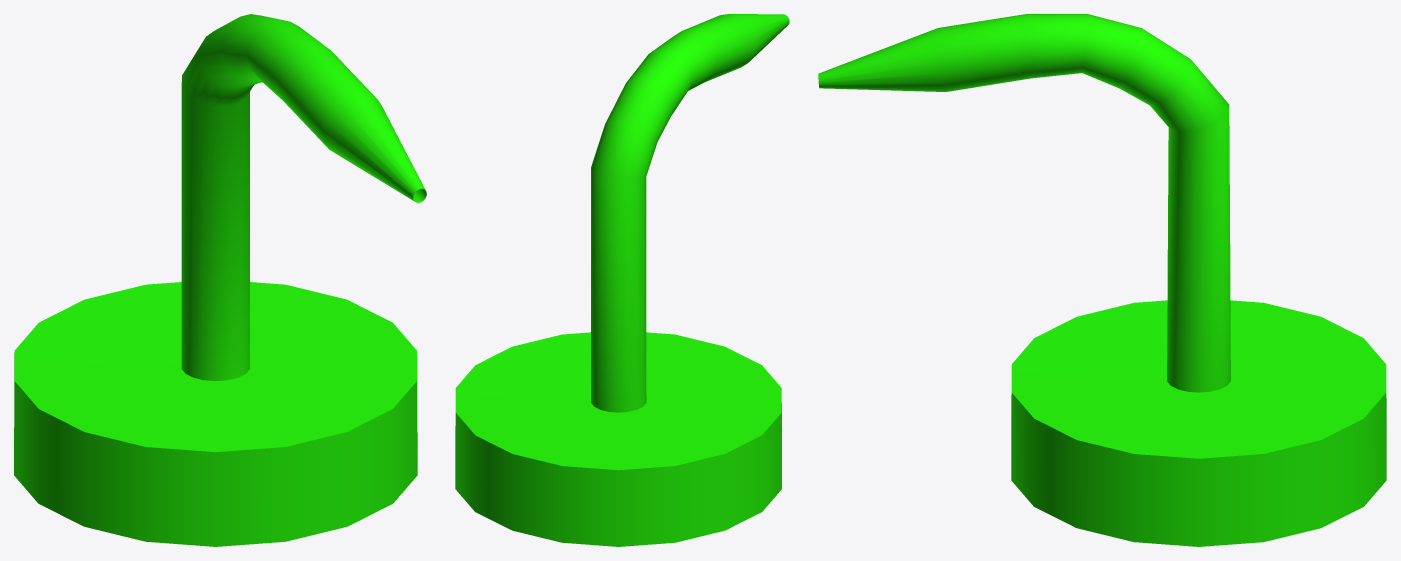
File: pH Buffer Bottle Cap 1.FBX
3 renders of one model, left to right at view 1: azimuth 30°, elevation 25°; view 2: azimuth 150°, elevation 25°; view 3: azimuth 270°, elevation 25°, orthographic. The views are drawn at different scales.
Visible parts, largest first — view 1: pH_Buffer_bottle_Cap; view 2: pH_Buffer_bottle_Cap; view 3: pH_Buffer_bottle_Cap.
Boxes of the visible parts, x1=… form: pH_Buffer_bottle_Cap: x1=14, y1=14, x2=426, y2=546; pH_Buffer_bottle_Cap: x1=455, y1=14, x2=789, y2=546; pH_Buffer_bottle_Cap: x1=818, y1=14, x2=1386, y2=546.
Size of the model in its own units: 7.28 by 9.46 by 10.85.
